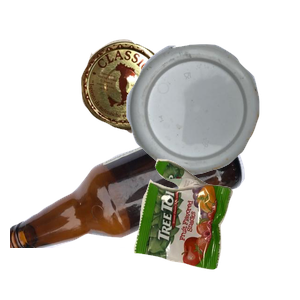glass: (10, 120, 247, 300)
metal: (78, 37, 243, 163)
plastic: (124, 42, 300, 210)
trash: (131, 156, 300, 300)
